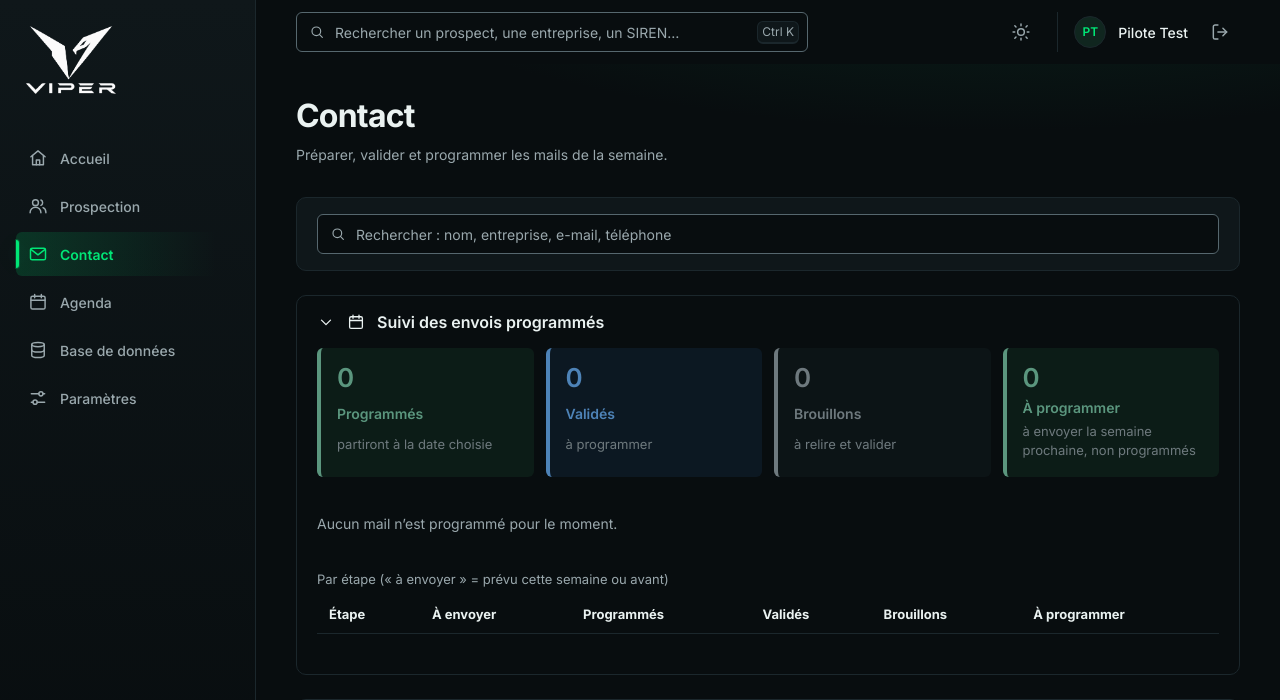
GlobalSearch › searches once typing pauses and shows grouped, typed results
Type "fret" into the dropdown named "Recherche globale" at point(541, 32), box [333,13,749,51]
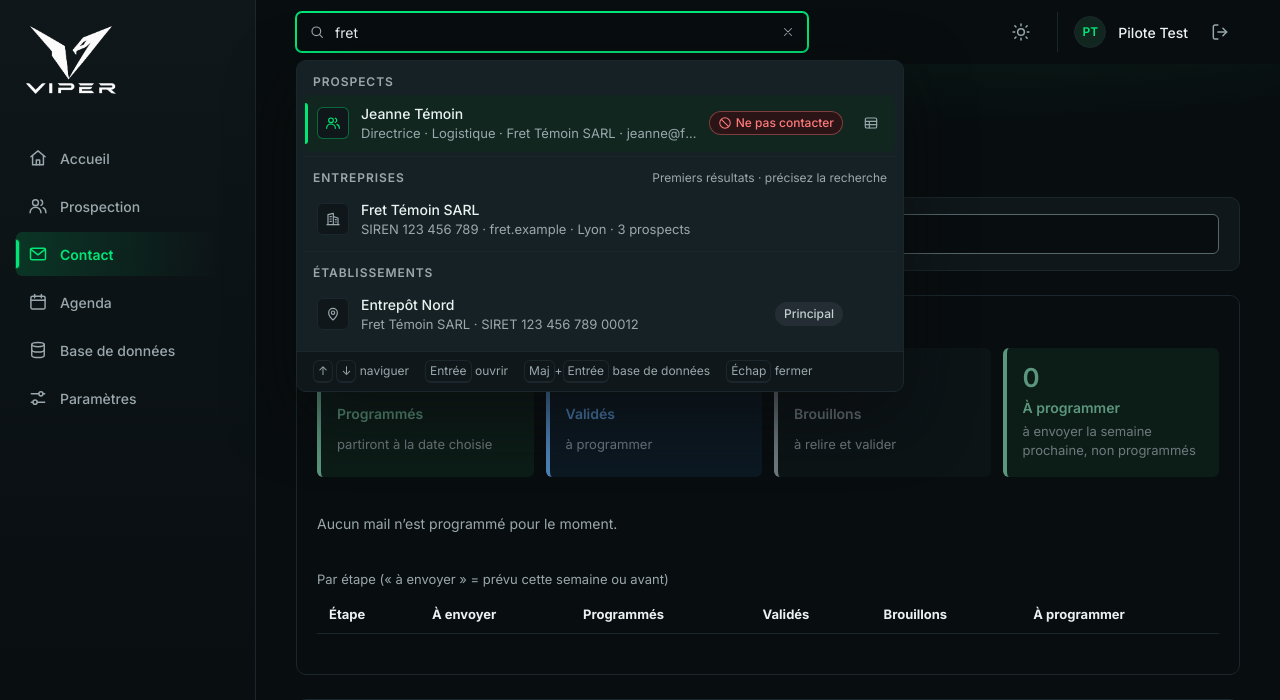
Check: the option that starts with "Jeanne Témoin" is shown, box [305,95,895,152]
Check: the option that starts with "Jeanne Témoin" shows "Directrice · Logistique · Fret Témoin SARL · jeanne@fret.example", box [305,95,895,152]
Check: the option that starts with "Jeanne Témoin" shows "Ne pas contacter", box [305,95,895,152]
